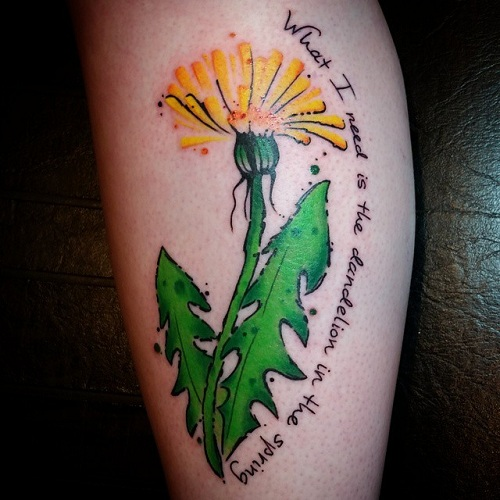dandelion: (168, 53, 349, 144)
